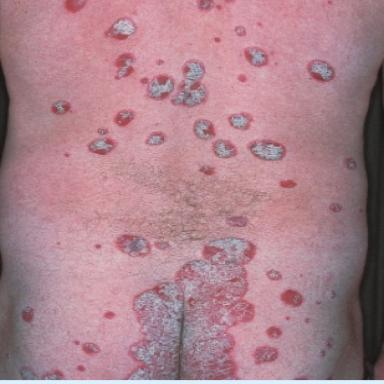Psoriasis: (128, 238, 255, 379), (172, 60, 207, 107), (250, 139, 285, 161), (116, 235, 151, 257), (106, 19, 136, 40), (148, 76, 174, 99), (308, 60, 334, 81), (116, 53, 135, 79), (253, 346, 278, 365), (194, 119, 215, 139), (245, 47, 267, 66), (89, 139, 115, 155), (213, 139, 235, 157), (229, 113, 252, 130), (115, 109, 134, 126), (20, 366, 37, 380), (146, 132, 164, 145), (81, 342, 100, 354), (53, 101, 70, 114), (227, 217, 248, 227), (197, 0, 215, 11), (43, 371, 64, 380), (199, 165, 215, 175), (344, 157, 357, 169), (154, 241, 170, 250), (267, 270, 281, 280), (234, 26, 246, 36), (329, 203, 342, 212), (98, 127, 108, 135)
